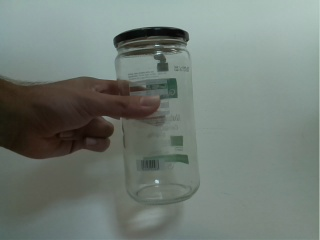pote cristal: (111, 25, 209, 208)
